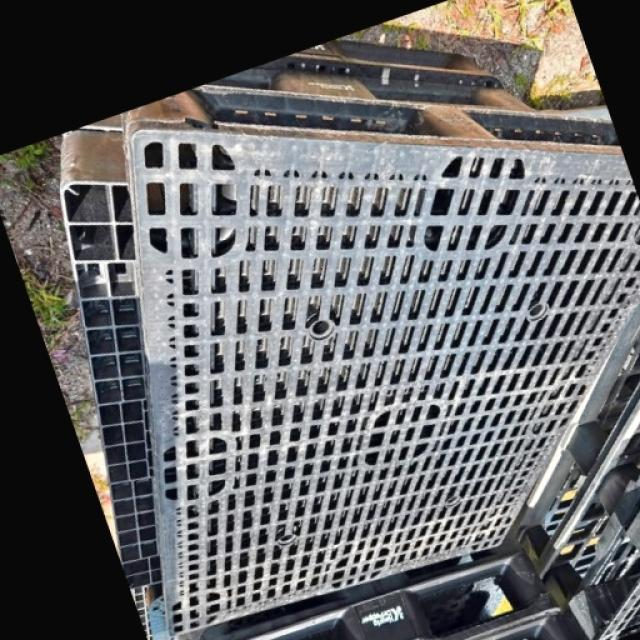non-igps: (56, 33, 640, 640), (191, 521, 580, 640), (509, 294, 639, 585), (529, 376, 639, 614), (200, 59, 546, 121), (243, 30, 519, 97), (569, 488, 639, 640)
